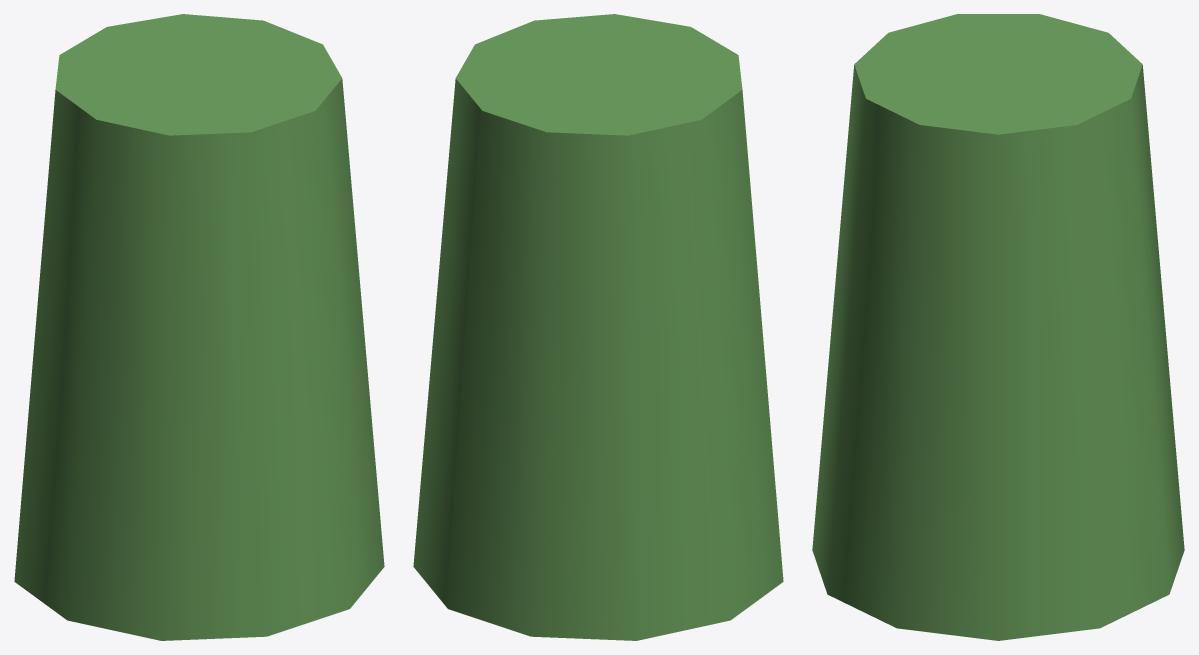
File: SM_Chairs_01.FBX
3 renders of one model, left to right at view 1: azimuth 30°, elevation 25°; view 2: azimuth 150°, elevation 25°; view 3: azimuth 270°, elevation 25°, orthographic.
Visible parts, largest first — view 1: SM_Chairs_01; view 2: SM_Chairs_01; view 3: SM_Chairs_01.
Boxes of the visible parts, <box> form: SM_Chairs_01: <box>14,14,384,640</box>; SM_Chairs_01: <box>413,14,783,640</box>; SM_Chairs_01: <box>812,14,1184,640</box>.
Bounding box in the file's own units: 32.07 × 32.4 × 46.91.
